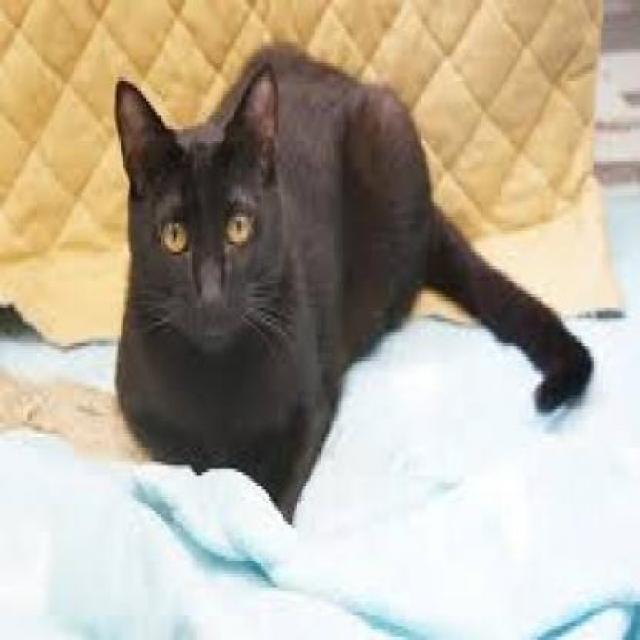animals: (100, 32, 594, 510)
